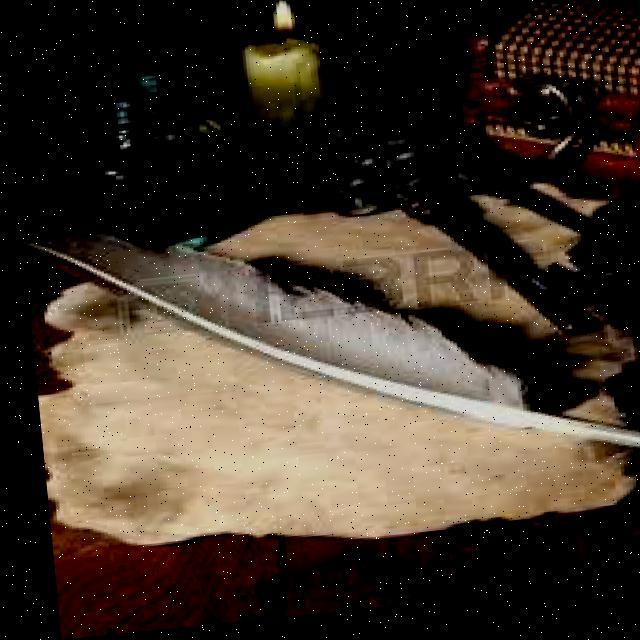Fire: (258, 4, 298, 46)
